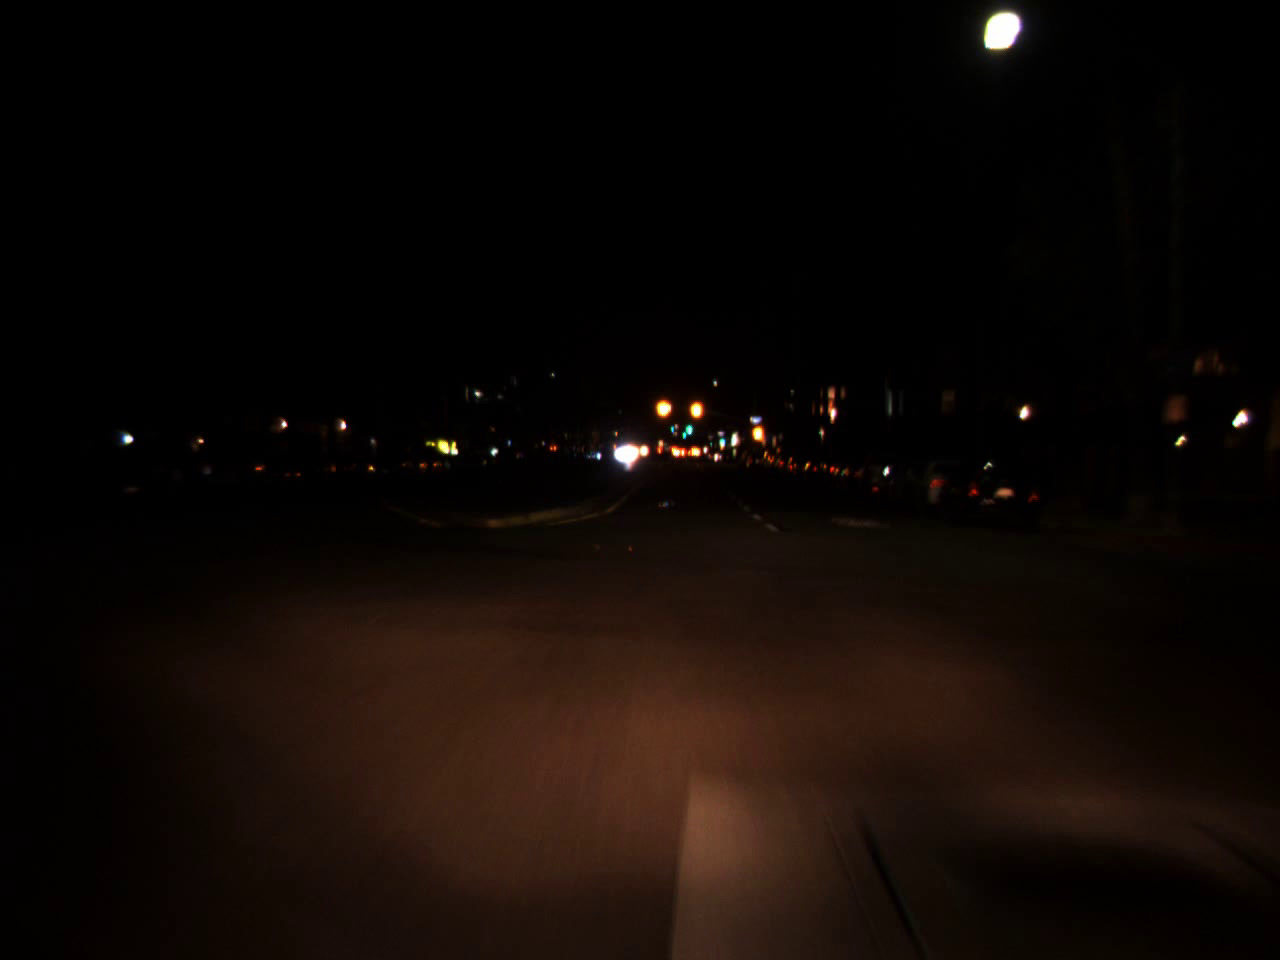go: (683, 414, 693, 438), (718, 432, 725, 444)
warning: (750, 410, 768, 450), (688, 389, 706, 429), (652, 389, 671, 424)
